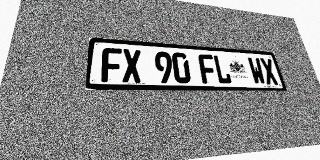0: (171, 52, 191, 83)
9: (154, 51, 174, 83)
F: (101, 47, 122, 82), (198, 54, 218, 84)
L: (212, 55, 232, 84)
W: (247, 57, 267, 85)
X: (122, 49, 142, 83), (259, 58, 279, 85)
